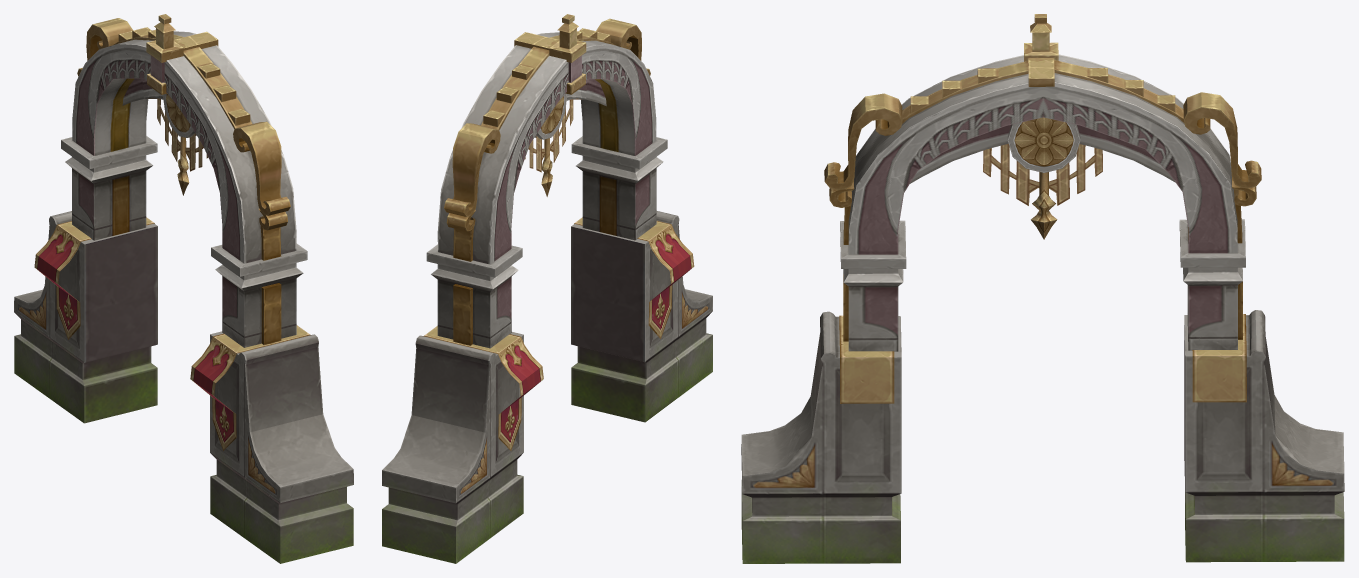
The picture shows the model from 3 angles, left to right: view 1: azimuth 30°, elevation 25°; view 2: azimuth 150°, elevation 25°; view 3: azimuth 270°, elevation 25°; orthographic projection. The views are drawn at different scales.
Visible parts, largest first — view 1: zc_2_02; view 2: zc_2_02; view 3: zc_2_02.
Part boxes in pixels (x1,y1,x2,y2): zc_2_02: [14, 14, 353, 563]; zc_2_02: [382, 14, 712, 563]; zc_2_02: [741, 14, 1344, 563].
Bounding box in the file's own units: 566 × 2371 × 2518.
